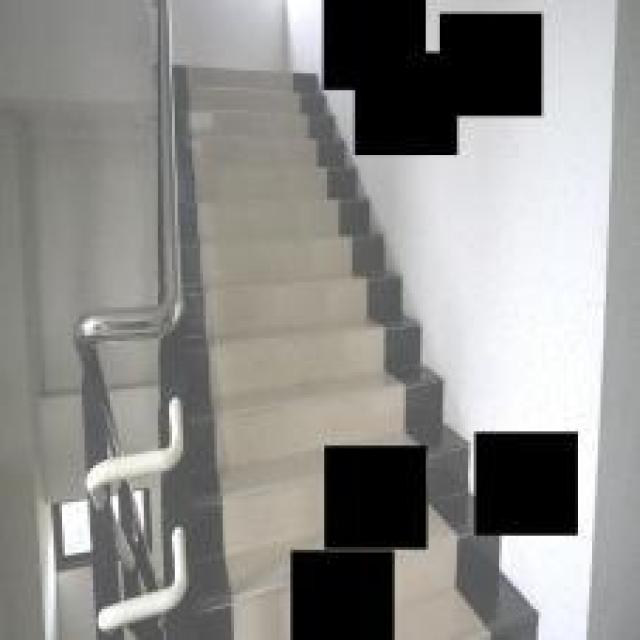upstair: (176, 49, 325, 435)
